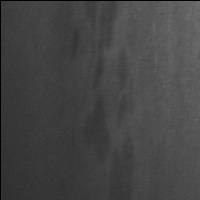inclusion: (81, 1, 117, 164), (107, 41, 141, 200)
